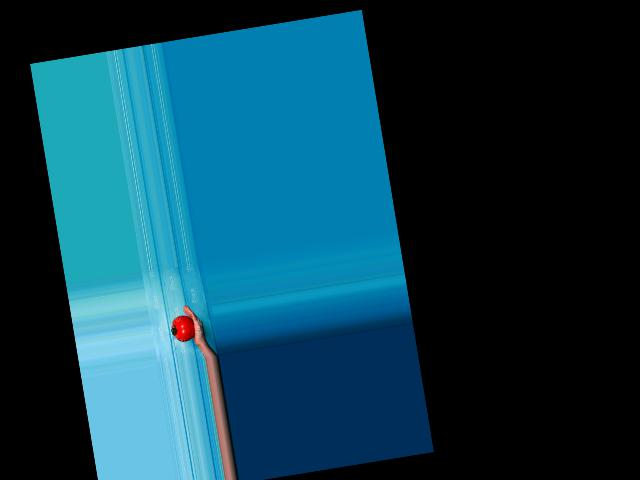tomato: (169, 313, 196, 342)
